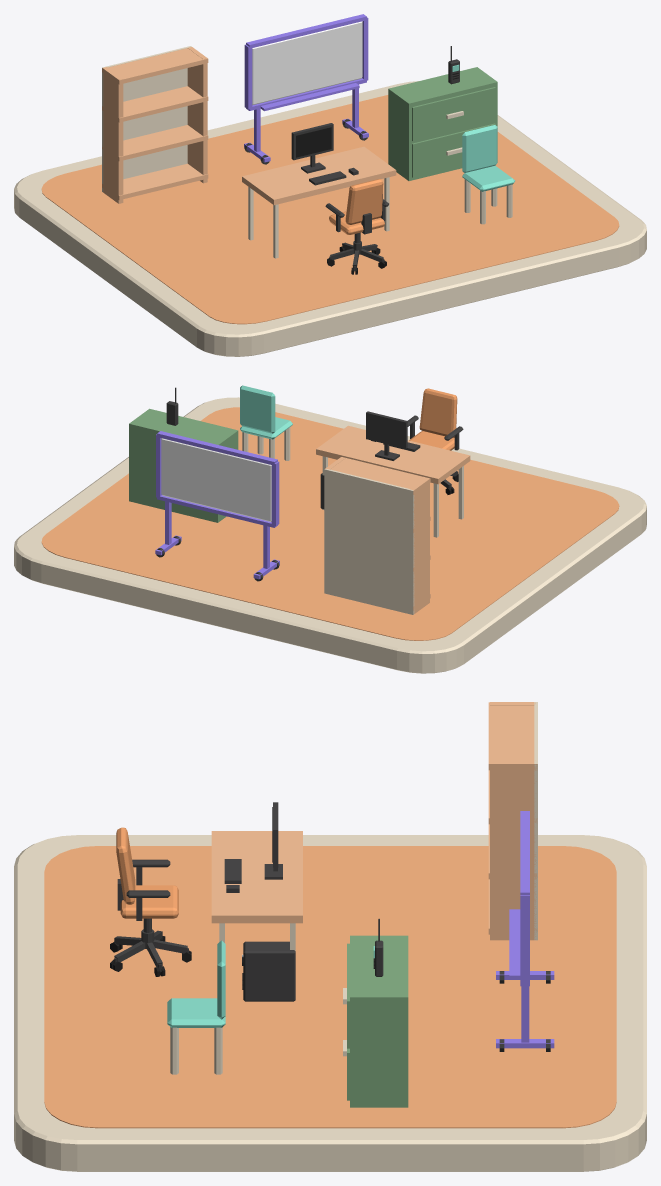
Rendered from room.fbx.
The picture shows the model from 3 angles, top to bottom: view 1: azimuth 30°, elevation 25°; view 2: azimuth 150°, elevation 25°; view 3: azimuth 270°, elevation 25°; orthographic projection. The views are drawn at different scales.
Visible parts, largest first — view 1: COM-02 Floor Surface, COM-01 Rounded Base Direct, Cabinet, Writing surface, Top, Back, COM-04_Chair_blender_direct, Side, Side.001, Shelf.003, Shelf.002, Shelf (+7 smaller); view 2: COM-02 Floor Surface, COM-01 Rounded Base Direct, Back, Writing surface, Cabinet, Top, COM-04_Chair_blender_direct, Side, Backrest, Frame, Shelf.003, Frame rail.001 (+3 smaller); view 3: COM-02 Floor Surface, COM-01 Rounded Base Direct, Cabinet, Top, Side.001, COM-04_Chair_blender_direct, Tower, Shelf.003, Seat, Back, Frame upright.001, Frame rail.001 (+3 smaller).
Part boxes in pixels (x1,y1,x2,y2): COM-02 Floor Surface: (41,95,619,324); COM-01 Rounded Base Direct: (14,81,646,356); Cabinet: (388,67,497,180); Writing surface: (252,21,362,105); Top: (242,146,396,258); Back: (102,46,191,192); COM-04_Chair_blender_direct: (325,179,388,274); Side: (103,67,123,203); Side.001: (187,47,207,183); Shelf.003: (102,48,208,84); Shelf.002: (102,86,208,122); Shelf: (102,163,208,200); COM-02 Floor Surface: (41,407,619,640); COM-01 Rounded Base Direct: (14,397,646,673); Back: (324,469,414,614); Writing surface: (161,438,271,521); Cabinet: (129,408,238,522); Top: (316,425,470,537); COM-04_Chair_blender_direct: (407,388,463,494); Side: (410,477,429,614); Backrest: (240,385,275,433); Frame: (366,411,407,460); Shelf.003: (330,457,430,494); Frame rail.001: (157,431,277,464); COM-02 Floor Surface: (44,846,616,1128); COM-01 Rounded Base Direct: (14,835,646,1171); Cabinet: (343,935,408,1107); Top: (211,831,302,950); Side.001: (490,760,536,940); COM-04_Chair_blender_direct: (110,827,191,976); Tower: (243,941,295,1001); Shelf.003: (488,702,537,770); Seat: (167,998,225,1027); Back: (534,702,537,940); Frame upright.001: (520,895,529,984); Frame rail.001: (520,811,529,895).
Size of the model in its own units: 600 by 190 by 520.
